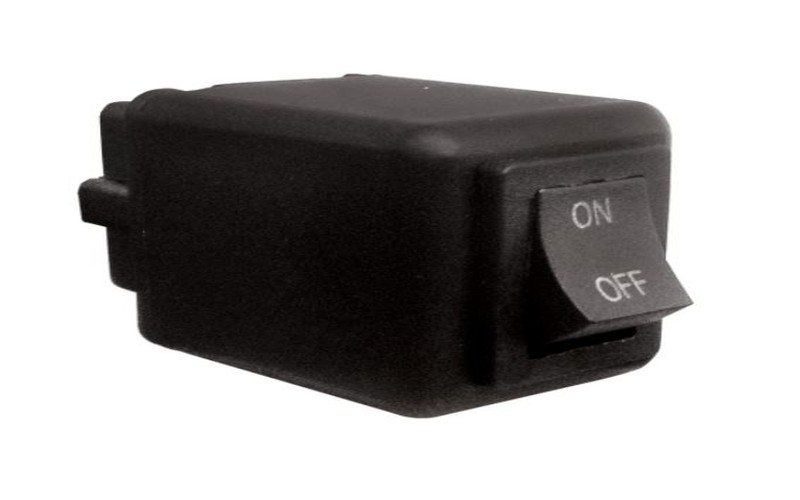Switches: (42, 31, 694, 437)
